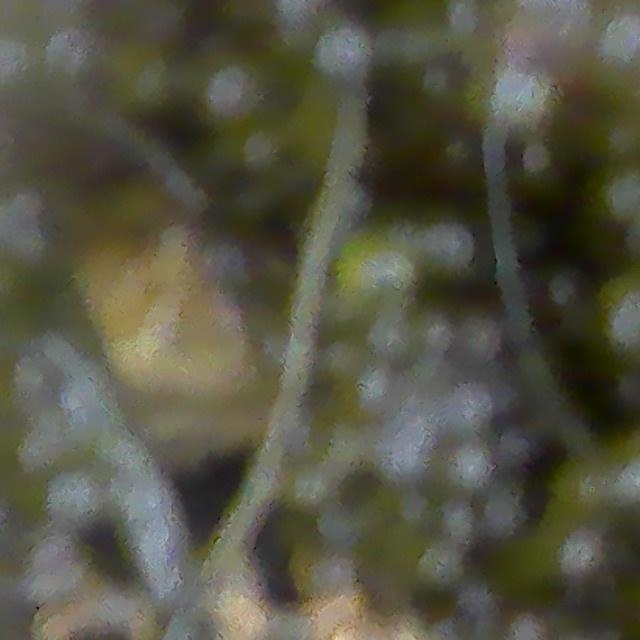SeaGrape: (584, 4, 640, 82), (315, 27, 368, 84)
